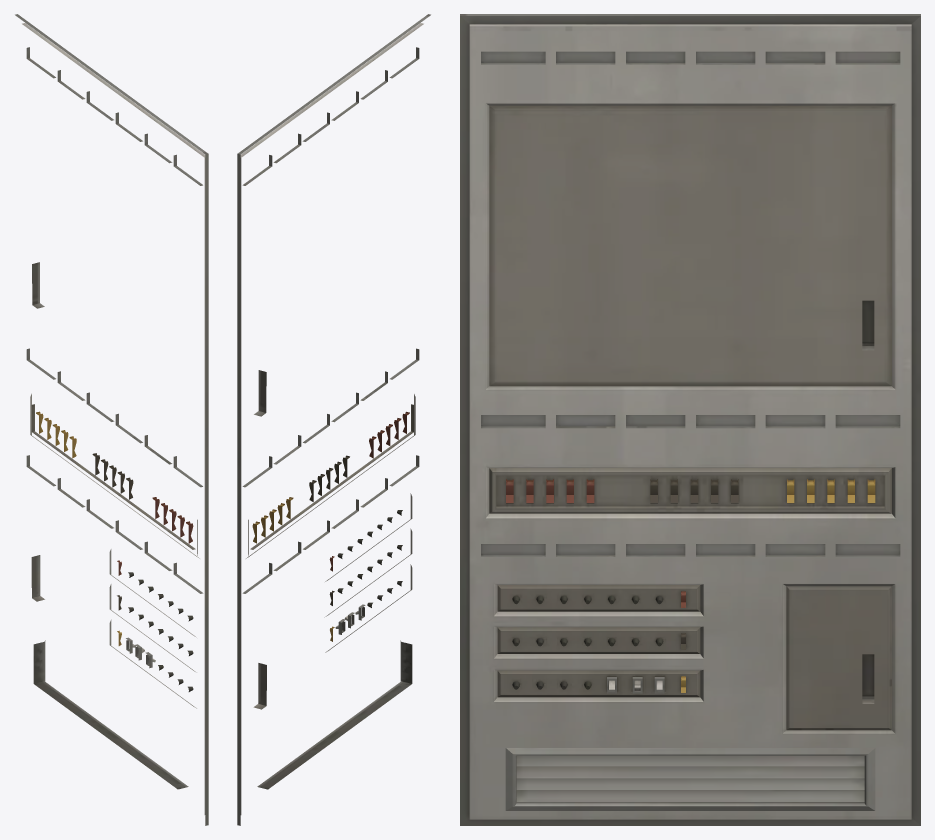
3 views of the same model, side by side, from view 1: azimuth 30°, elevation 25°; view 2: azimuth 150°, elevation 25°; view 3: azimuth 270°, elevation 25° (orthographic). The views are drawn at different scales.
Parts seen in each view (by area): view 1: body0_model0_lod0_mesh0; view 2: body0_model0_lod0_mesh0; view 3: body0_model0_lod0_mesh0.
Boxes of the visible parts, box(x1,y1,x2,y2) form: body0_model0_lod0_mesh0: box(15, 14, 208, 825); body0_model0_lod0_mesh0: box(237, 14, 430, 825); body0_model0_lod0_mesh0: box(460, 14, 920, 825).
Bounding box in the file's own units: 3.25 × 128 × 65.99.
Materials: 1 (1 with a texture image).
